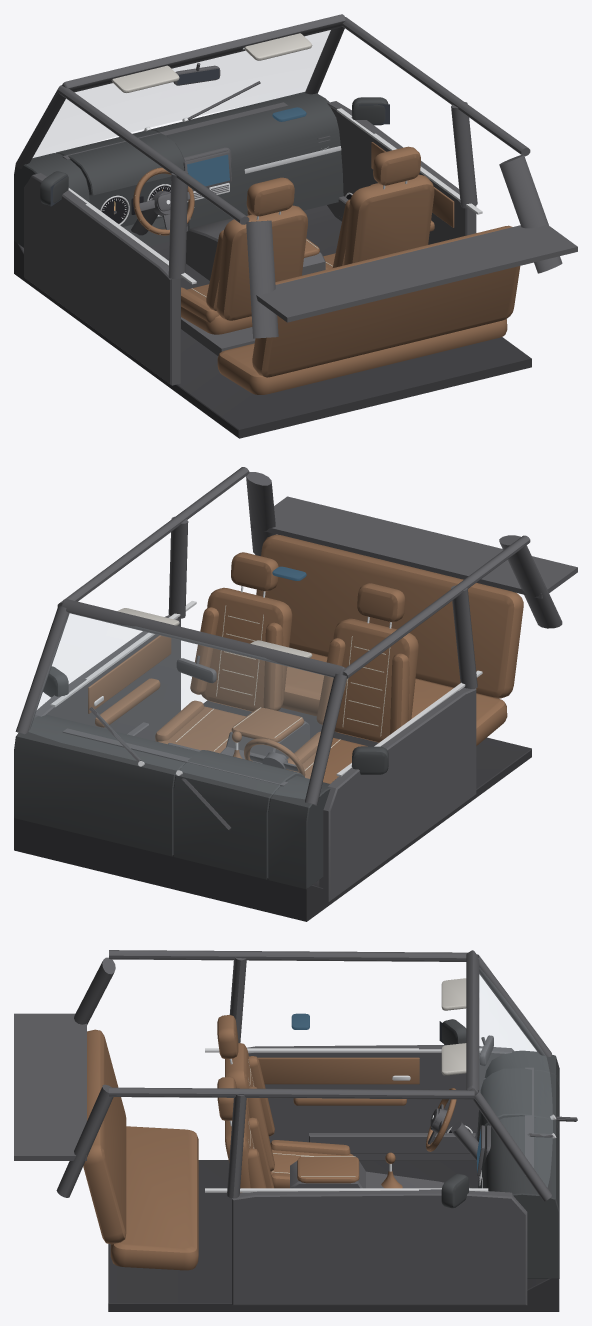
File: sedan-cabin.glb
The picture shows the model from 3 angles, top to bottom: view 1: azimuth 30°, elevation 25°; view 2: azimuth 150°, elevation 25°; view 3: azimuth 270°, elevation 25°; orthographic projection.
Visible parts, largest first — view 1: RearBench, Greenhouse, Dash, DoorL, Floor, Windshield, SeatDriver, SeatPassenger, DoorR, Console, CenterStack, SteeringWheel (+4 smaller); view 2: Windshield, Dash, RearBench, Greenhouse, DoorL, Floor, SeatPassenger, SeatDriver, DoorR, Console, SteeringWheel, SideMirrorHousingL (+3 smaller); view 3: DoorR, RearBench, DoorL, Greenhouse, Floor, Dash, Windshield, SeatDriver, Console, SeatPassenger, SteeringWheel, SideMirrorHousingR (+4 smaller).
Part boxes in pixels (left/top/right/bottom): RearBench: left=217, top=224, right=577, bottom=394; Greenhouse: left=15, top=14, right=562, bottom=338; Dash: left=14, top=92, right=343, bottom=247; DoorL: left=24, top=173, right=196, bottom=385; Floor: left=14, top=205, right=531, bottom=438; Windshield: left=32, top=30, right=330, bottom=159; SeatDriver: left=181, top=177, right=307, bottom=355; SeatPassenger: left=323, top=146, right=434, bottom=269; DoorR: left=327, top=101, right=482, bottom=244; Console: left=186, top=210, right=325, bottom=280; CenterStack: left=170, top=147, right=231, bottom=231; SteeringWheel: left=133, top=167, right=194, bottom=235; Windshield: left=29, top=613, right=347, bottom=798; Dash: left=14, top=714, right=330, bottom=889; RearBench: left=251, top=496, right=577, bottom=745; Greenhouse: left=15, top=467, right=562, bottom=805; DoorL: left=319, top=670, right=482, bottom=902; Floor: left=14, top=700, right=531, bottom=921; SeatPassenger: left=155, top=552, right=292, bottom=753; SeatDriver: left=286, top=583, right=418, bottom=783; DoorR: left=34, top=601, right=196, bottom=740; Console: left=220, top=708, right=309, bottom=763; SteeringWheel: left=244, top=738, right=305, bottom=776; SideMirrorHousingL: left=352, top=746, right=388, bottom=774; DoorR: left=205, top=1188, right=527, bottom=1305; RearBench: left=14, top=1013, right=198, bottom=1270; DoorL: left=205, top=1045, right=514, bottom=1160; Greenhouse: left=56, top=950, right=551, bottom=1201; Floor: left=108, top=1160, right=559, bottom=1311; Dash: left=477, top=1050, right=559, bottom=1278; Windshield: left=479, top=969, right=552, bottom=1186; SeatDriver: left=217, top=1015, right=353, bottom=1188; Console: left=290, top=1152, right=471, bottom=1188; SeatPassenger: left=217, top=1076, right=274, bottom=1192; SteeringWheel: left=426, top=1088, right=456, bottom=1151; SideMirrorHousingR: left=441, top=1173, right=468, bottom=1208.
Bounding box in the file's own units: 2.2 × 1.34 × 3.09.
